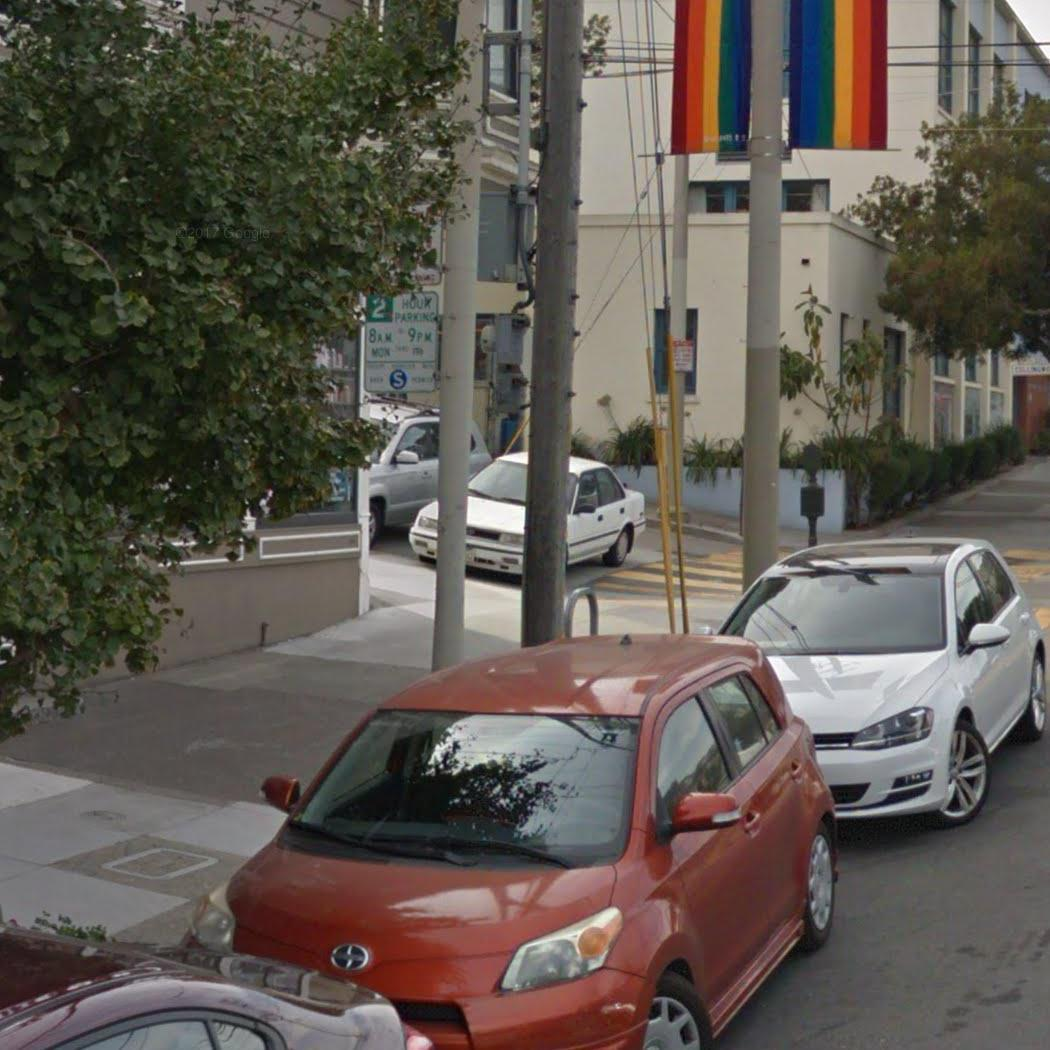2 Hour Parking: (359, 287, 440, 396)
No Parking Anytime: (670, 336, 697, 373)
